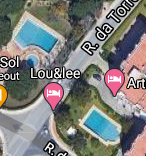pool: (18, 23, 54, 53), (88, 111, 118, 141)
